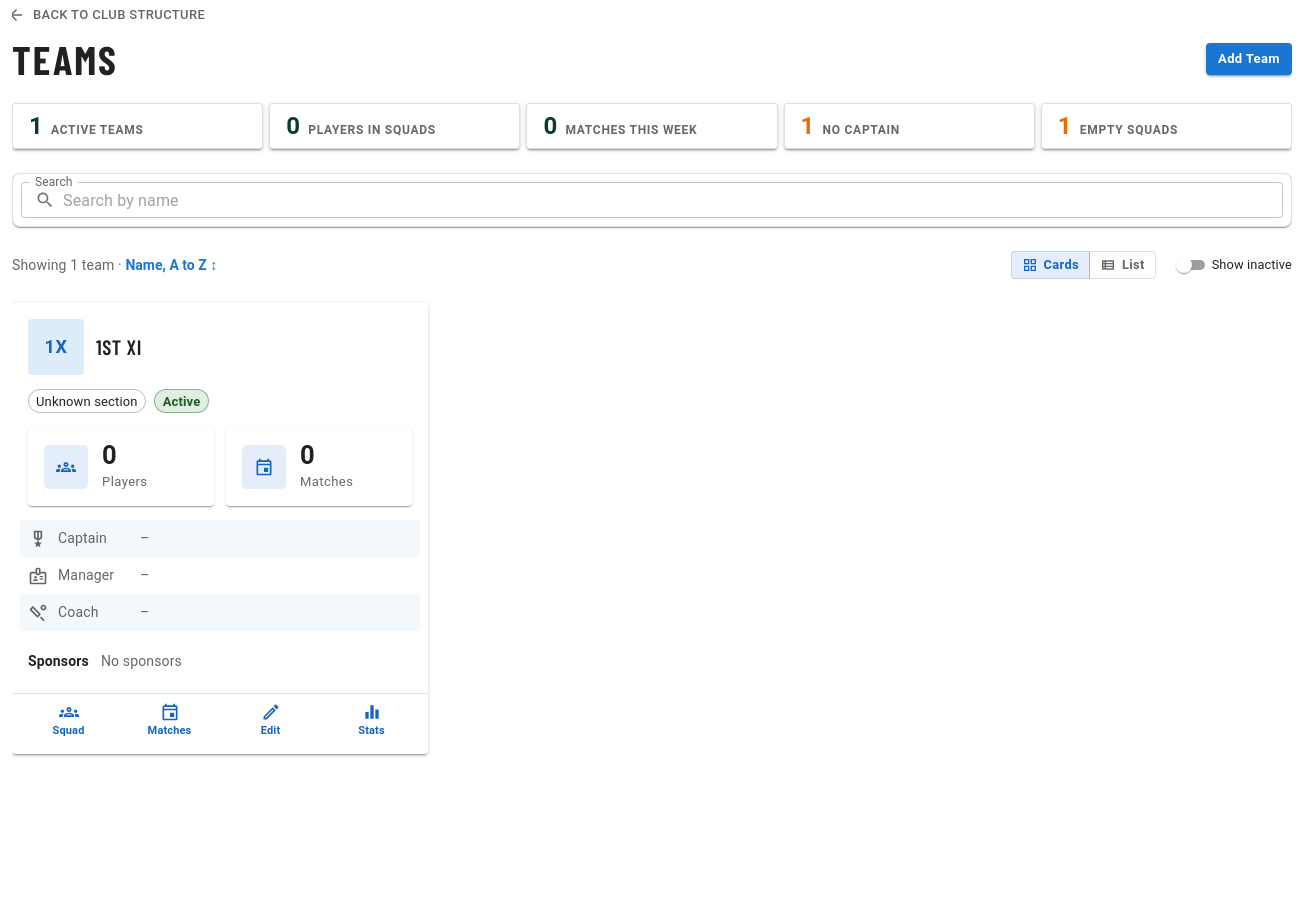
it: TeamList › hides a deactivated team until Show inactive is on, then shows it with a grey Inactive chip
Expected: the link "1st XI" is shown, [96, 335, 142, 359]
Expected: the text "2nd XI" is not shown
Step 1. Click the checkbox labelled "Show inactive" → (1234, 265), box [1176, 257, 1292, 273]
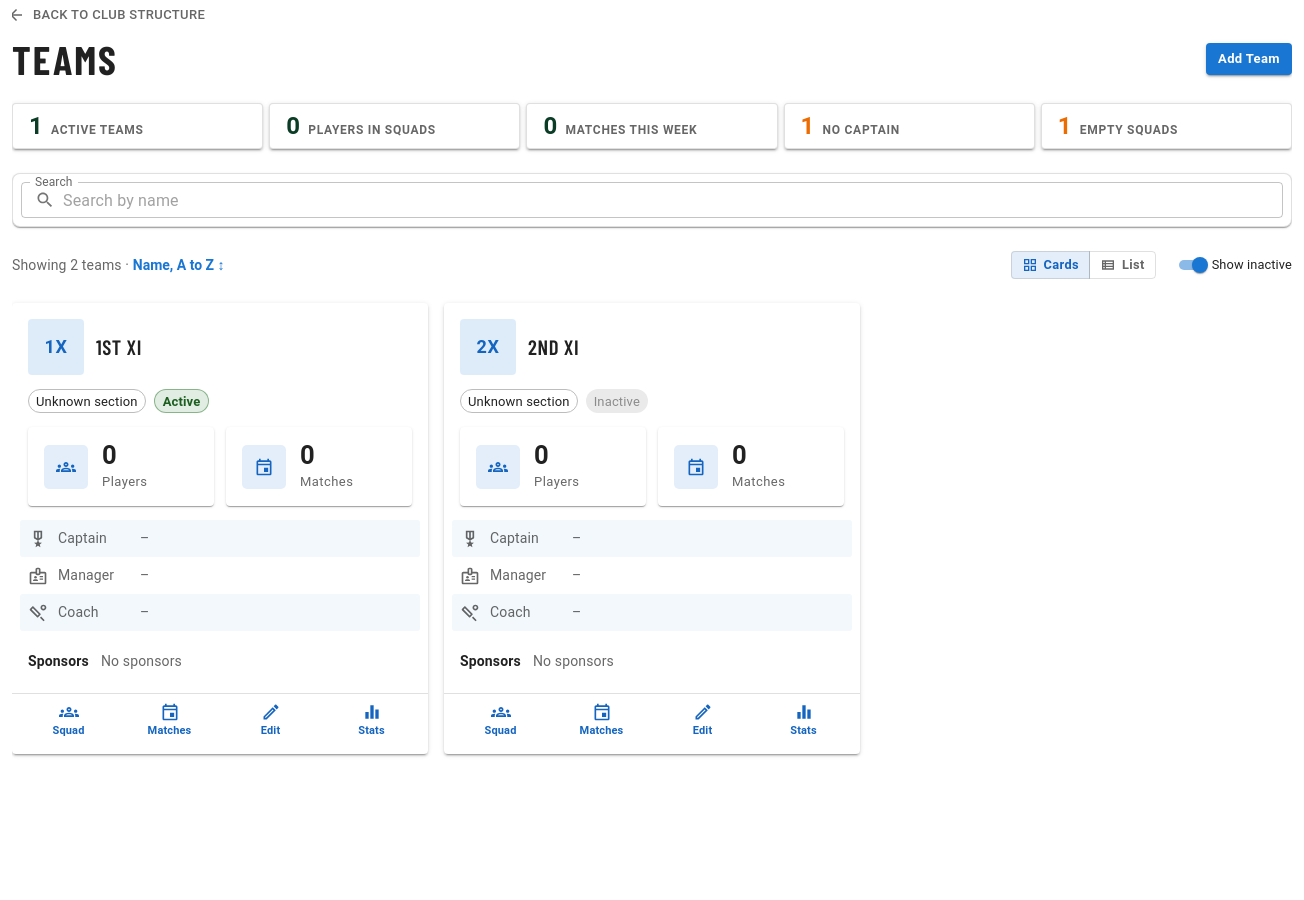
Expected: the link "2nd XI" is shown, [528, 335, 579, 359]
Expected: the text "Inactive" is shown, [594, 394, 640, 409]
